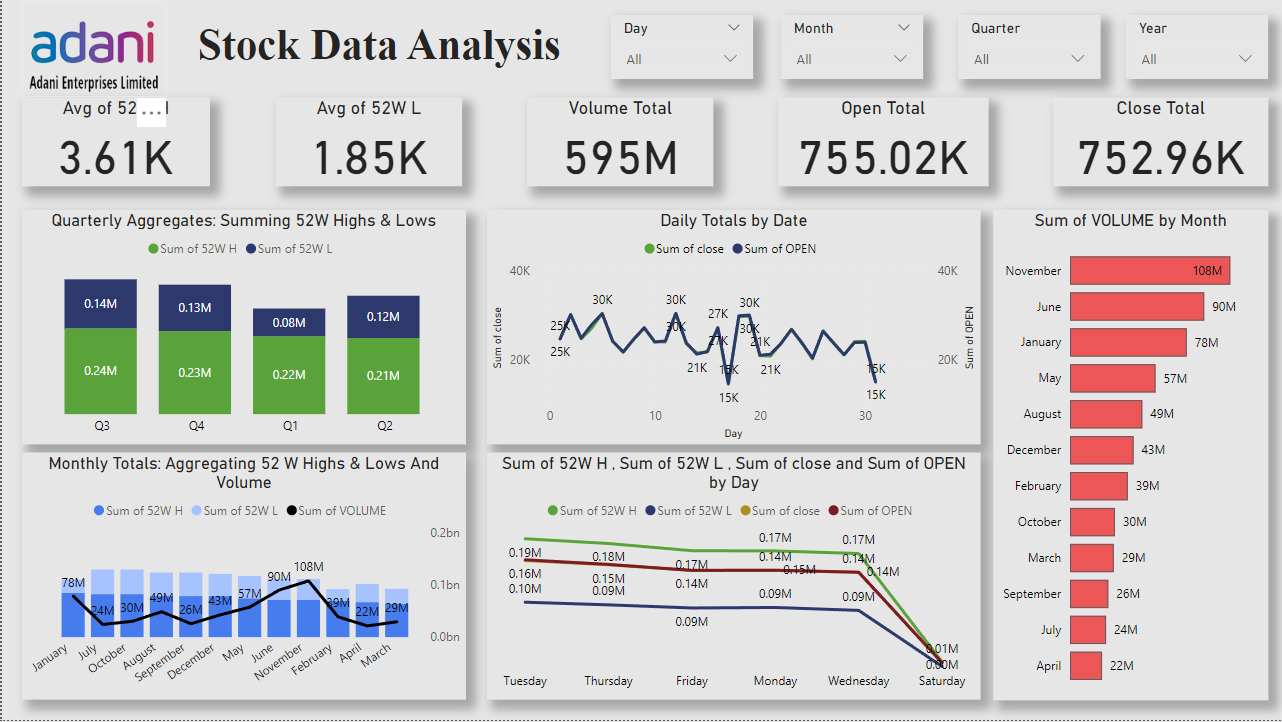

What the dashboard file says about the page in this screenshot:
{"tool":"powerbi","page":{"name":"Page 1","canvas":[1280,720],"ordinal":0},"visuals":[{"type":"slicer","fields":{"Values":["ADANI ENTERPRISES LIMITED.Day"]},"box":[608.5,14.8,142.2,63.7],"z":0},{"type":"slicer","fields":{"Values":["ADANI ENTERPRISES LIMITED.Month"]},"box":[779.1,14.8,142.2,63.7],"z":1000},{"type":"slicer","fields":{"Values":["ADANI ENTERPRISES LIMITED.Quarter"]},"box":[956.6,14.8,142.2,63.7],"z":2000},{"type":"slicer","fields":{"Values":["ADANI ENTERPRISES LIMITED.Year"]},"box":[1123.8,14.8,142.2,63.7],"z":3000},{"type":"card","title":"Avg of 52W H","fields":{"Values":["Avg(ADANI ENTERPRISES LIMITED.52W H )"]},"box":[20.5,97.8,187.7,88.7],"z":4000},{"type":"card","title":"Avg of 52W L","fields":{"Values":["Avg(ADANI ENTERPRISES LIMITED.52W L )"]},"box":[273.2,97.8,186.5,88.7],"z":5000},{"type":"card","title":"Close Total","fields":{"Values":["Sum(ADANI ENTERPRISES LIMITED.close )"]},"box":[1051.2,97.5,215,88.8],"z":6000},{"type":"card","title":"Open Total","fields":{"Values":["Sum(ADANI ENTERPRISES LIMITED.OPEN )"]},"box":[776.2,97.5,210,88.8],"z":7000},{"type":"card","title":"Volume Total","fields":{"Values":["Sum(ADANI ENTERPRISES LIMITED.VOLUME )"]},"box":[524.7,97.8,186.5,88.7],"z":8000},{"type":"columnChart","title":"Quarterly Aggregates: Summing 52W Highs & Lows","fields":{"Y":["Sum(ADANI ENTERPRISES LIMITED.52W H )","Sum(ADANI ENTERPRISES LIMITED.52W L )"],"Category":["ADANI ENTERPRISES LIMITED.Quarter"]},"box":[20.5,210.4,443.6,234.3],"z":9000},{"type":"lineStackedColumnComboChart","title":"Monthly Totals: Aggregating 52 W Highs & Lows And Volume","fields":{"Y":["Sum(ADANI ENTERPRISES LIMITED.52W H )","Sum(ADANI ENTERPRISES LIMITED.52W L )"],"Category":["ADANI ENTERPRISES LIMITED.Month"],"Y2":["Sum(ADANI ENTERPRISES LIMITED.VOLUME )"]},"box":[20.5,452.7,443.6,246.8],"z":10000},{"type":"lineChart","title":"Daily Totals by Date","fields":{"Category":["ADANI ENTERPRISES LIMITED.Date .Variation.Date Hierarchy.Day"],"Y":["Sum(ADANI ENTERPRISES LIMITED.close )"],"Y2":["Sum(ADANI ENTERPRISES LIMITED.OPEN )"]},"box":[484.5,210.4,493.6,234.3],"z":11000},{"type":"lineChart","fields":{"Y":["Sum(ADANI ENTERPRISES LIMITED.52W H )","Sum(ADANI ENTERPRISES LIMITED.52W L )","Sum(ADANI ENTERPRISES LIMITED.close )","Sum(ADANI ENTERPRISES LIMITED.OPEN )"],"Category":["ADANI ENTERPRISES LIMITED.Day"]},"box":[484.5,452.7,493.6,246.8],"z":12000},{"type":"clusteredBarChart","fields":{"Category":["ADANI ENTERPRISES LIMITED.Month"],"Y":["Sum(ADANI ENTERPRISES LIMITED.VOLUME )"]},"box":[991.2,210,275,490],"z":13000},{"type":"image","box":[20,0,145,97.5],"z":14000},{"type":"textbox","box":[164.9,14.8,424.3,63.7],"z":15000}]}

Visuals, with their boxes in screenshot pixels (x1, y1, x2, y2), scaled from the page's 1280x720 canvas onto the 1282x722 screenshot:
slicer - ADANI ENTERPRISES LIMITED.Day: (609, 15, 752, 79)
slicer - ADANI ENTERPRISES LIMITED.Month: (780, 15, 923, 79)
slicer - ADANI ENTERPRISES LIMITED.Quarter: (958, 15, 1101, 79)
slicer - ADANI ENTERPRISES LIMITED.Year: (1126, 15, 1268, 79)
"Avg of 52W H" card: (21, 98, 209, 187)
"Avg of 52W L" card: (274, 98, 460, 187)
"Close Total" card: (1053, 98, 1268, 187)
"Open Total" card: (777, 98, 988, 187)
"Volume Total" card: (526, 98, 712, 187)
"Quarterly Aggregates: Summing 52W Highs & Lows" columnChart: (21, 211, 465, 446)
"Monthly Totals: Aggregating 52 W Highs & Lows And Volume" lineStackedColumnComboChart: (21, 454, 465, 701)
"Daily Totals by Date" lineChart: (485, 211, 980, 446)
lineChart - Sum(ADANI ENTERPRISES LIMITED.52W H ) x Sum(ADANI ENTERPRISES LIMITED.52W L ): (485, 454, 980, 701)
clusteredBarChart - ADANI ENTERPRISES LIMITED.Month x Sum(ADANI ENTERPRISES LIMITED.VOLUME ): (993, 211, 1268, 702)
image: (20, 0, 165, 98)
textbox: (165, 15, 590, 79)
